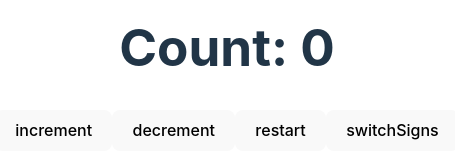
Test: <Counter /> › should decrement 1 when click at increment button
Click the button "decrement". click: (174, 130)
box: x1=112 y1=110 x2=235 y2=151
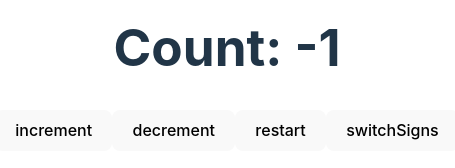
Result: the heading with test id "countNumber" reads "Count: -1" at x1=114 y1=16 x2=340 y2=78
